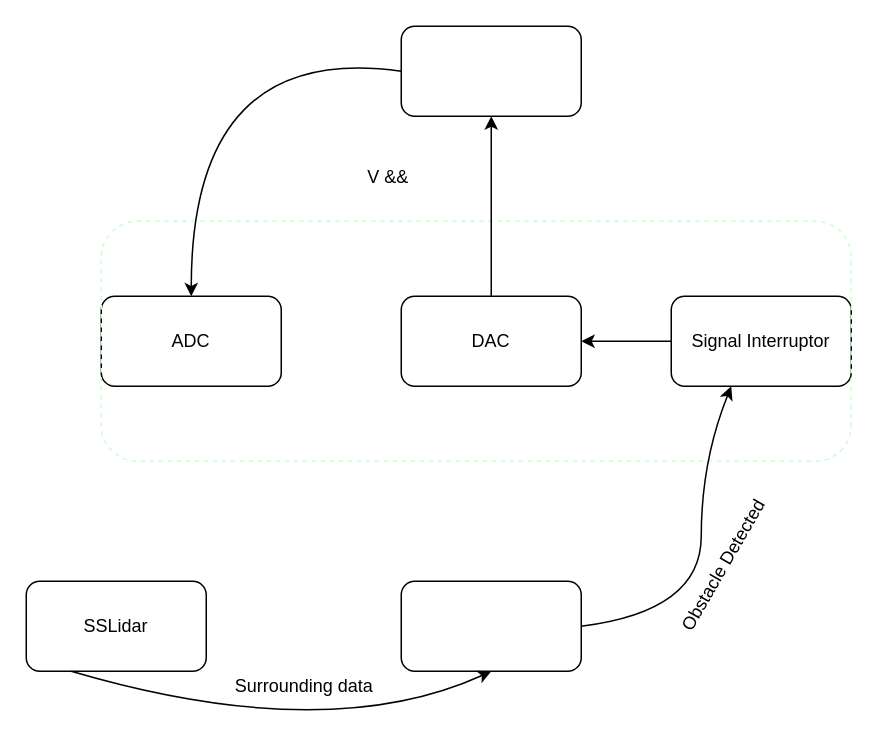
The diagram is 878 pixels wide and 737 high, and some of its shapes have lost their labels. The box of each missing label's shape, as (x1, y1, x2, y2) in pixels:
Jetson Nano: (400, 580, 581, 671)
Wheelchair: (400, 25, 581, 116)
